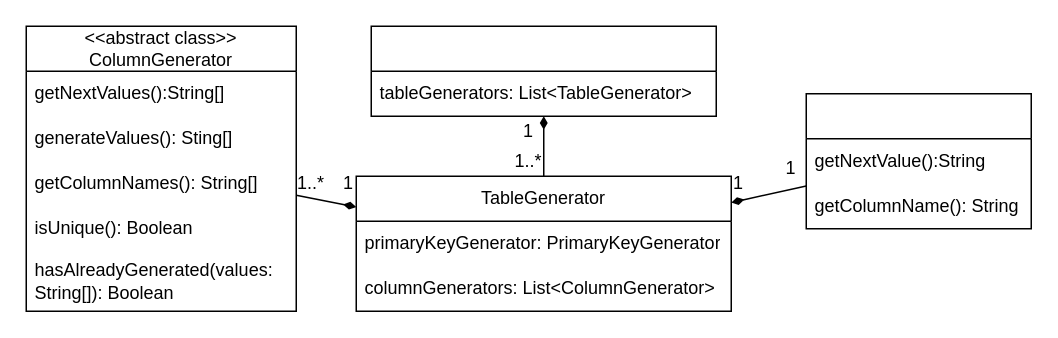
The diagram is 1058 pixels wide and 338 high, and some of its shapes have lost their labels. Here are the shapes that lost their labels. From the top down, the box of each, then its label:
(370, 25, 716, 116): DatabaseGenerator
(805, 92, 1031, 229): <<interface>> PrimaryKeyGenerator
